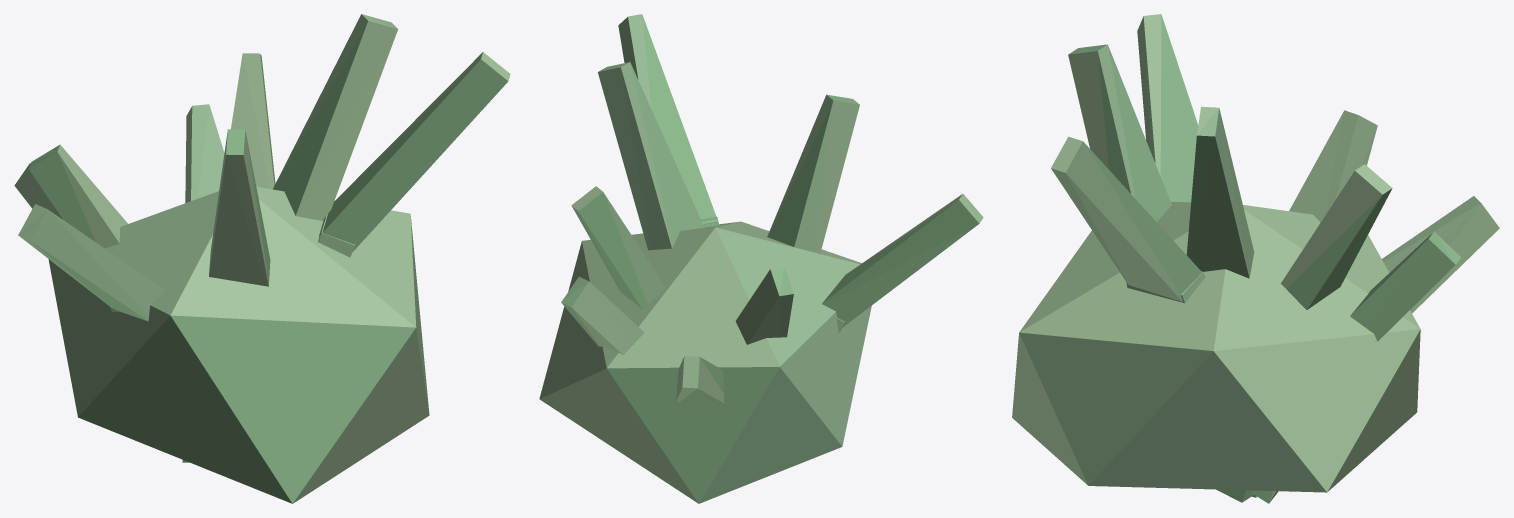
Rendered from grass-clump-00.glb.
3 views of the same model, side by side, from view 1: azimuth 30°, elevation 25°; view 2: azimuth 150°, elevation 25°; view 3: azimuth 270°, elevation 25° (orthographic). The views are drawn at different scales.
Visible parts, largest first — view 1: grass_clump_00; view 2: grass_clump_00; view 3: grass_clump_00.
Part boxes in pixels (x1=…): grass_clump_00: x1=14, y1=14, x2=510, y2=503; grass_clump_00: x1=539, y1=14, x2=983, y2=503; grass_clump_00: x1=1012, y1=14, x2=1499, y2=503.
Size of the model in its own units: 0.1732 by 0.1484 by 0.1549.
